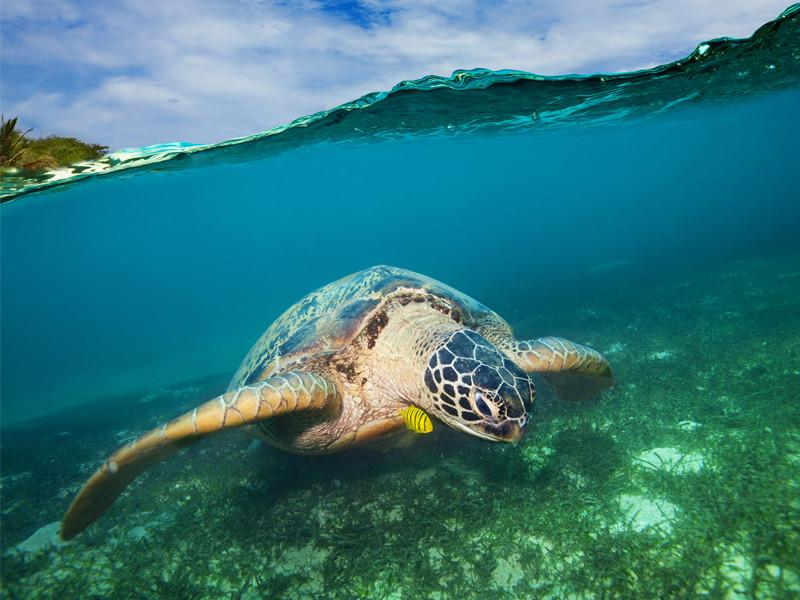turtle: (404, 325, 544, 461)
